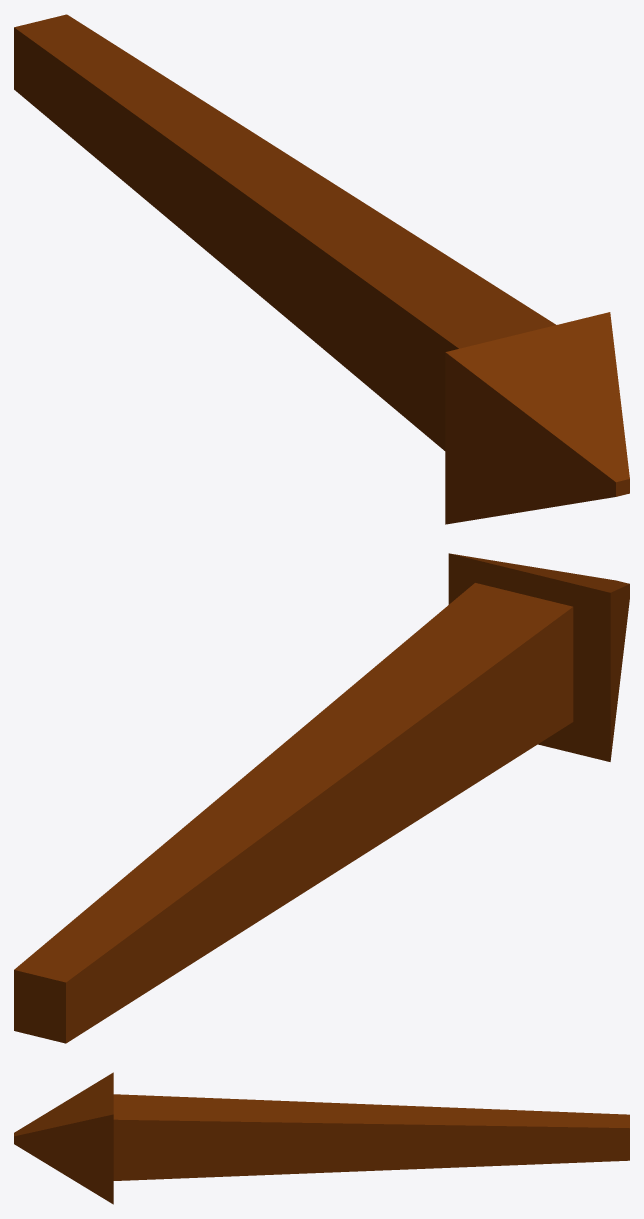
File: pijl.fbx
3 renders of one model, top to bottom at view 1: azimuth 30°, elevation 25°; view 2: azimuth 150°, elevation 25°; view 3: azimuth 270°, elevation 25°, orthographic. The views are drawn at different scales.
Visible parts, largest first — view 1: Cube; view 2: Cube; view 3: Cube.
Part boxes in pixels (left/top/right/bottom): Cube: left=14, top=14, right=629, bottom=524; Cube: left=14, top=553, right=629, bottom=1043; Cube: left=14, top=1072, right=629, bottom=1204.
Size of the model in its own units: 75.11 by 75.11 by 464.
